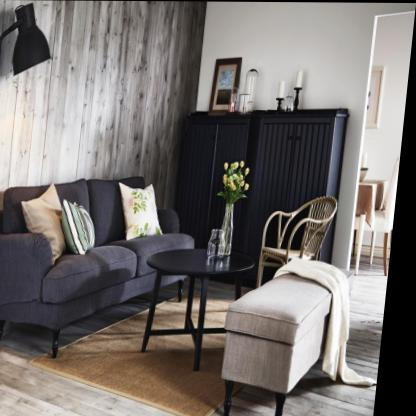Sofa: (0, 173, 207, 362)
Table: (142, 245, 263, 371)
